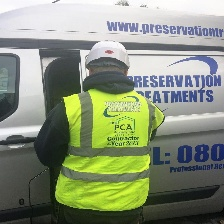helmet: (77, 39, 143, 74)
person: (33, 38, 167, 220)
vest: (52, 90, 165, 214)
